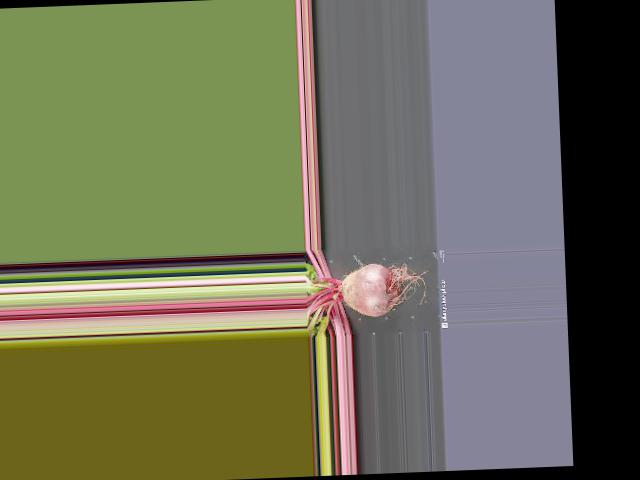beet: (305, 260, 433, 337)
